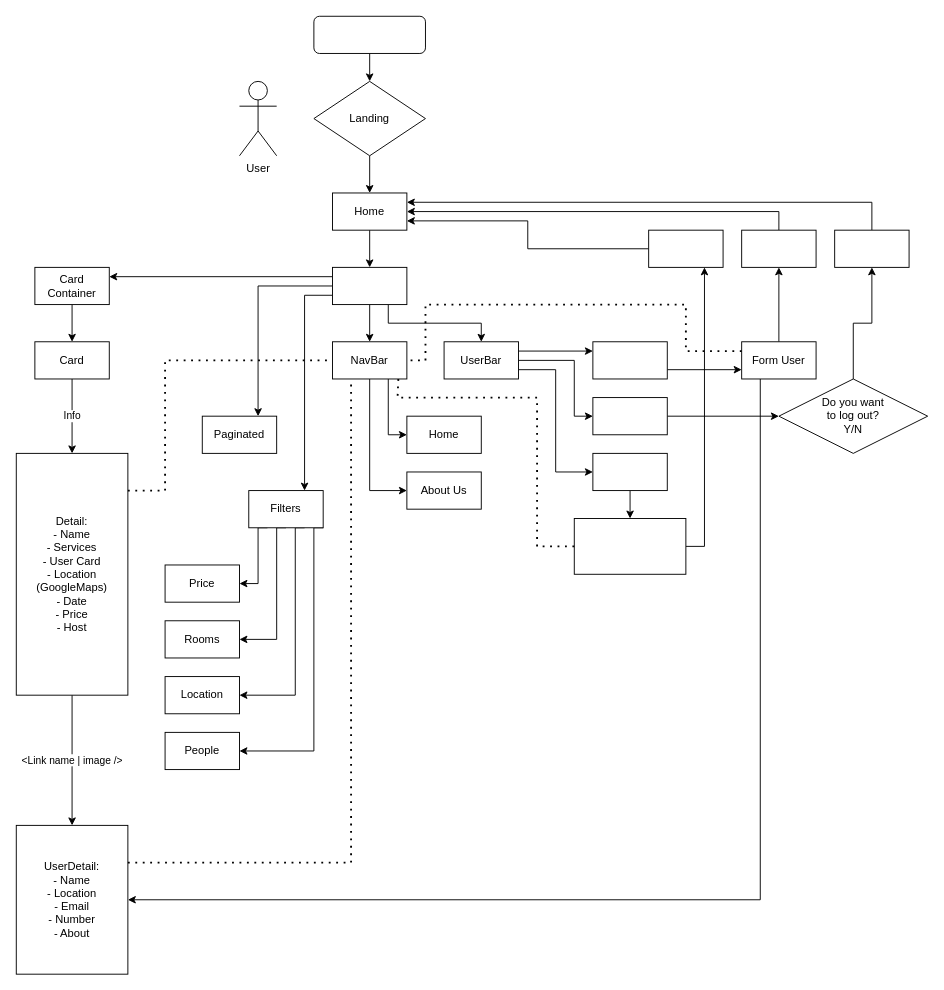
The diagram is 944 pixels wide and 990 high, and some of its shapes have lost their labels. The shapes that lost their labels are listed below. From the top down, each one's centre as x and y in pixels, then its label:
At (369,34): "Ingrear al sitio web".
At (685,248): "Submit Alert".
At (778,248): "Welcome Alert".
At (871,248): "LogOut Alert".
At (369,285): "Render".
At (629,360): "LogIn/Create an account".
At (629,416): "LogOut".
At (629,471): "Form".
At (629,546): "Register services".
